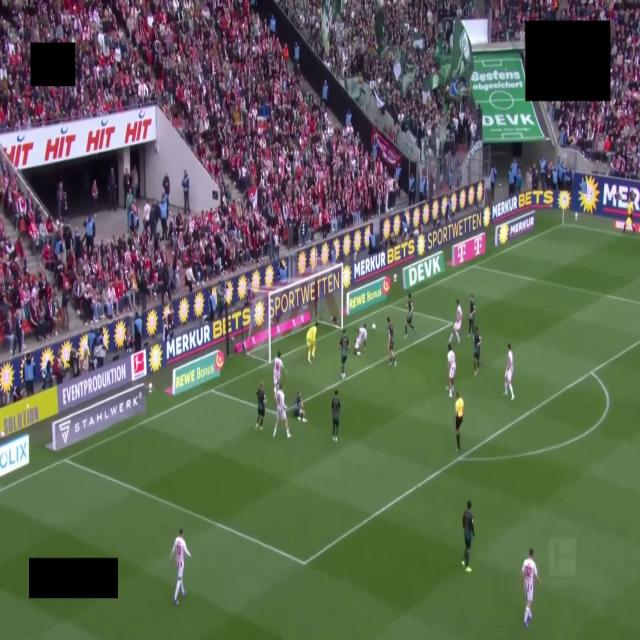ball: (372, 324, 376, 329)
player: (170, 529, 190, 604), (521, 549, 540, 626), (273, 383, 291, 438), (462, 501, 474, 572), (448, 300, 462, 343), (331, 389, 342, 442), (504, 344, 514, 400), (273, 351, 284, 396), (306, 322, 318, 363), (405, 294, 416, 337), (339, 329, 348, 379), (387, 317, 396, 366), (256, 382, 265, 430), (447, 344, 455, 397), (293, 392, 307, 422), (473, 327, 481, 375), (355, 323, 367, 355), (469, 295, 475, 336)
referee: (455, 392, 463, 452)
